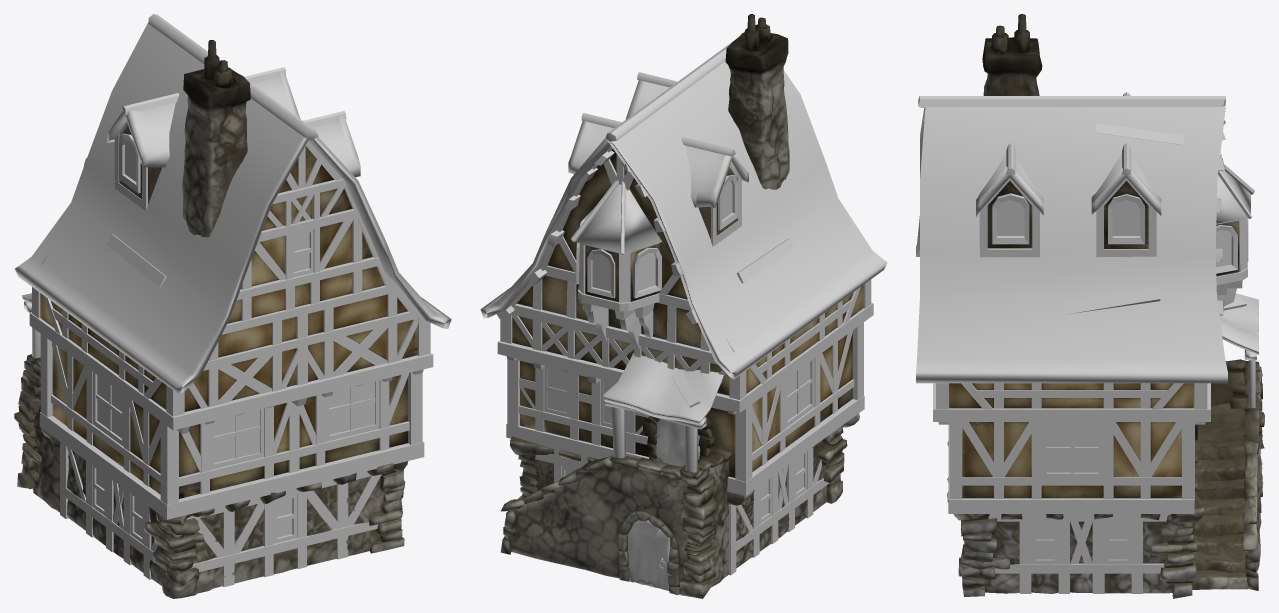
The picture shows the model from 3 angles, left to right: view 1: azimuth 30°, elevation 25°; view 2: azimuth 150°, elevation 25°; view 3: azimuth 270°, elevation 25°; orthographic projection. The views are drawn at different scales.
Parts seen in each view (by area): view 1: polySurface284, planker1, polySurface279, rammeverk, polySurface283, polySurface280, polySurface214, glassivindu, vinduer, polySurface14, polySurface162, plankepatak1 (+1 smaller); view 2: polySurface284, planker1, polySurface279, polySurface283, rammeverk, polySurface280, polySurface214, vinduer, glassivindu, dorer0, polySurface218, polySurface247 (+6 smaller); view 3: polySurface284, planker1, polySurface283, polySurface279, rammeverk, glassivindu, polySurface214, vinduer, polySurface280, polySurface14, polySurface218, plankepatak1 (+2 smaller).
Boxes of the visible parts, <box> form: polySurface284: <box>15,23,451,394</box>; planker1: <box>43,122,422,586</box>; polySurface279: <box>40,125,417,498</box>; rammeverk: <box>29,287,433,519</box>; polySurface283: <box>29,369,393,593</box>; polySurface280: <box>182,40,250,237</box>; polySurface214: <box>14,361,405,598</box>; glassivindu: <box>96,140,375,537</box>; vinduer: <box>92,133,379,543</box>; polySurface14: <box>148,14,318,140</box>; polySurface162: <box>41,428,408,525</box>; plankepatak1: <box>106,234,166,287</box>; polySurface284: <box>480,61,887,424</box>; planker1: <box>508,146,860,575</box>; polySurface279: <box>512,149,863,477</box>; polySurface283: <box>504,440,828,592</box>; rammeverk: <box>497,279,873,495</box>; polySurface280: <box>725,14,789,189</box>; polySurface214: <box>517,427,847,598</box>; vinduer: <box>544,174,814,524</box>; glassivindu: <box>547,181,810,517</box>; dorer0: <box>627,419,700,590</box>; polySurface218: <box>500,449,732,554</box>; polySurface247: <box>618,416,714,595</box>; polySurface284: <box>916,93,1258,383</box>; planker1: <box>961,178,1247,593</box>; polySurface283: <box>983,373,1262,593</box>; polySurface279: <box>949,181,1238,498</box>; rammeverk: <box>933,383,1210,513</box>; glassivindu: <box>997,200,1231,559</box>; polySurface214: <box>958,366,1264,598</box>; vinduer: <box>992,193,1248,564</box>; polySurface280: <box>982,14,1042,95</box>; polySurface14: <box>918,96,1225,107</box>; polySurface218: <box>1225,359,1261,590</box>; plankepatak1: <box>1064,123,1246,314</box>.
Size of the model in its own units: 22.24 by 40.3 by 25.18.
